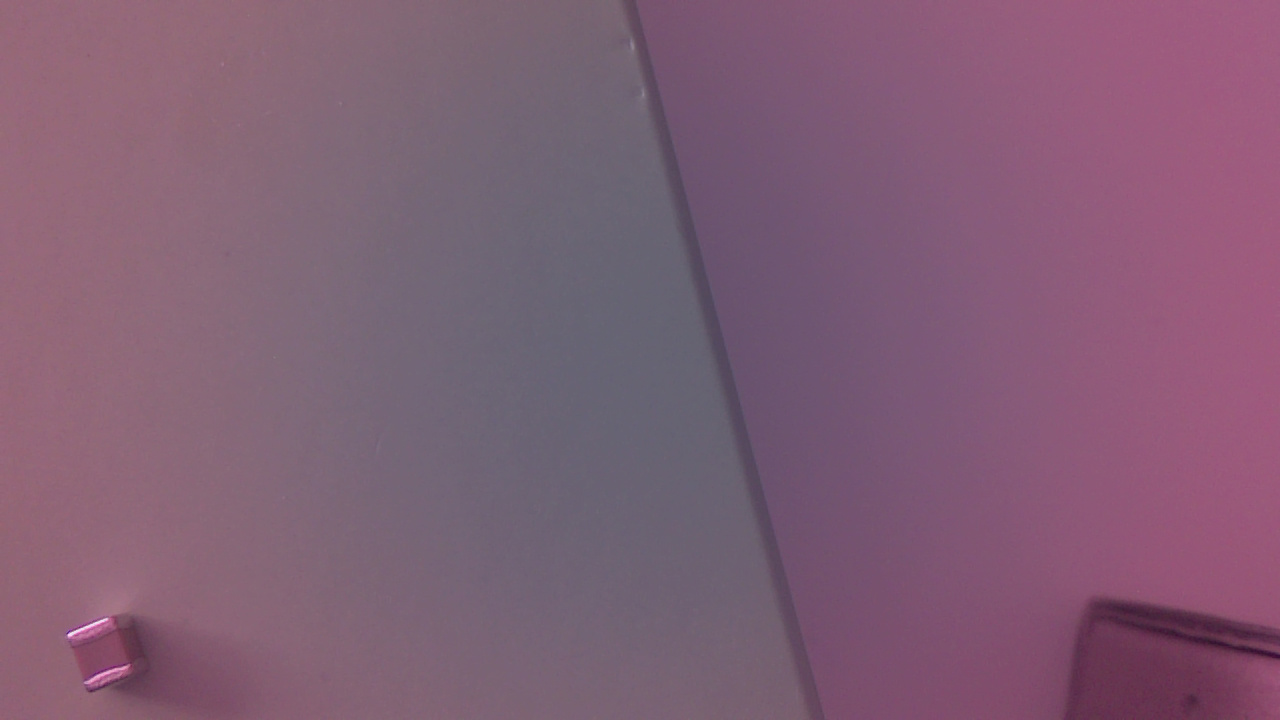Condensator: (67, 616, 158, 700)
